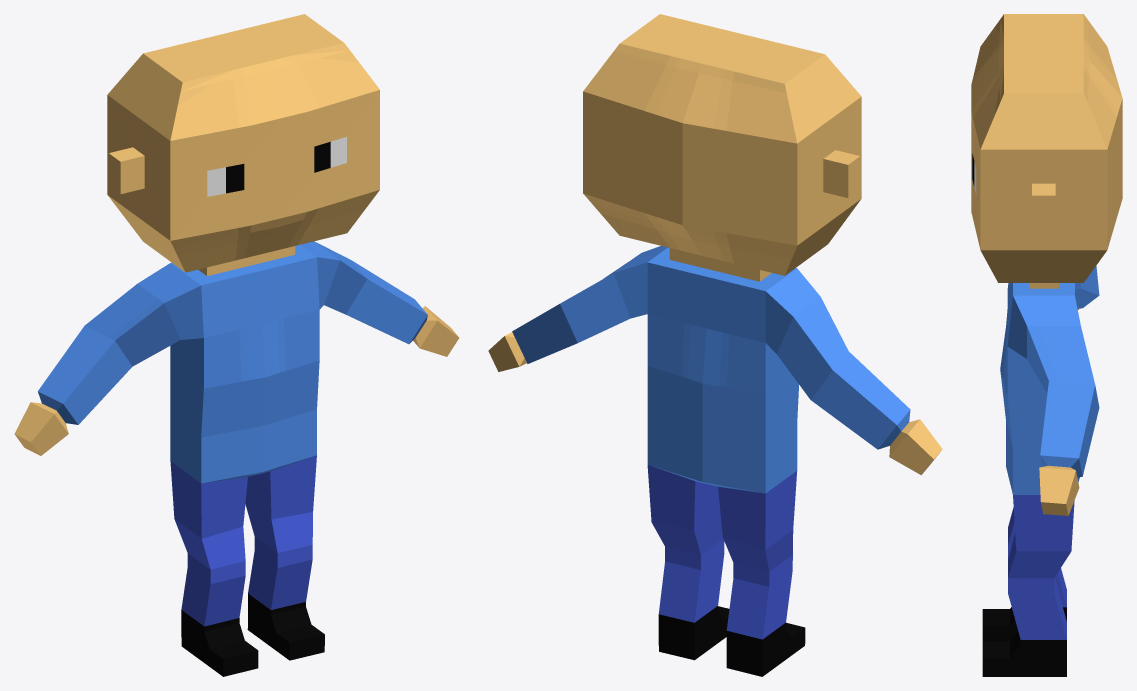
File: VatanCalsanWaaalterWhite.fbx
3 views of the same model, side by side, from view 1: azimuth 30°, elevation 25°; view 2: azimuth 150°, elevation 25°; view 3: azimuth 270°, elevation 25° (orthographic). The views are drawn at different scales.
Visible parts, largest first — view 1: ten, tişört, pantolon, ayakkabı, göz siyah, göz beyaz; view 2: ten, tişört, pantolon, ayakkabı; view 3: ten, tişört, pantolon, ayakkabı.
Part boxes in pixels (x1,y1,x2,y2): ten: (14, 14, 459, 455); tişört: (38, 241, 427, 483); pantolon: (170, 455, 316, 626); ayakkabı: (181, 593, 324, 676); göz siyah: (226, 141, 330, 193); göz beyaz: (207, 137, 346, 196); ten: (488, 14, 942, 475); tişört: (512, 246, 910, 493); pantolon: (647, 465, 796, 639); ayakkabı: (658, 606, 805, 676); ten: (971, 14, 1122, 515); tişört: (1000, 266, 1099, 494); pantolon: (1008, 495, 1074, 639); ayakkabı: (982, 607, 1066, 676).
Size of the model in its own units: 137 by 178 by 40.76.
